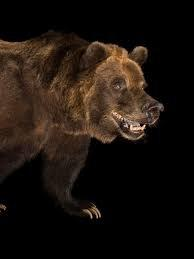bear: (1, 27, 165, 221)
